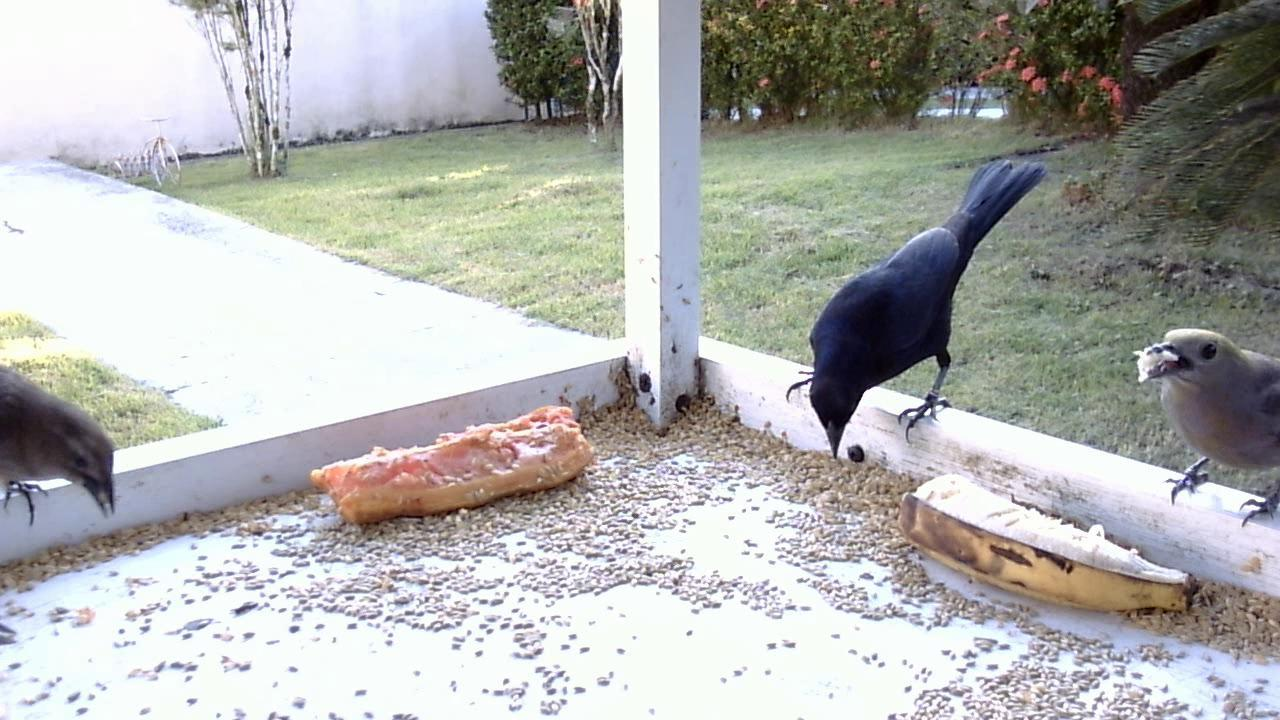chupim: (770, 155, 1057, 475), (1, 360, 129, 540)
sanhaco_do_coqueiro: (1128, 324, 1276, 535)
